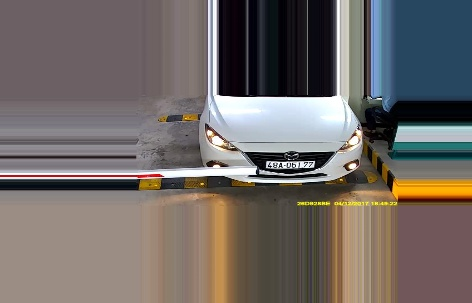plate: (264, 157, 313, 170)
